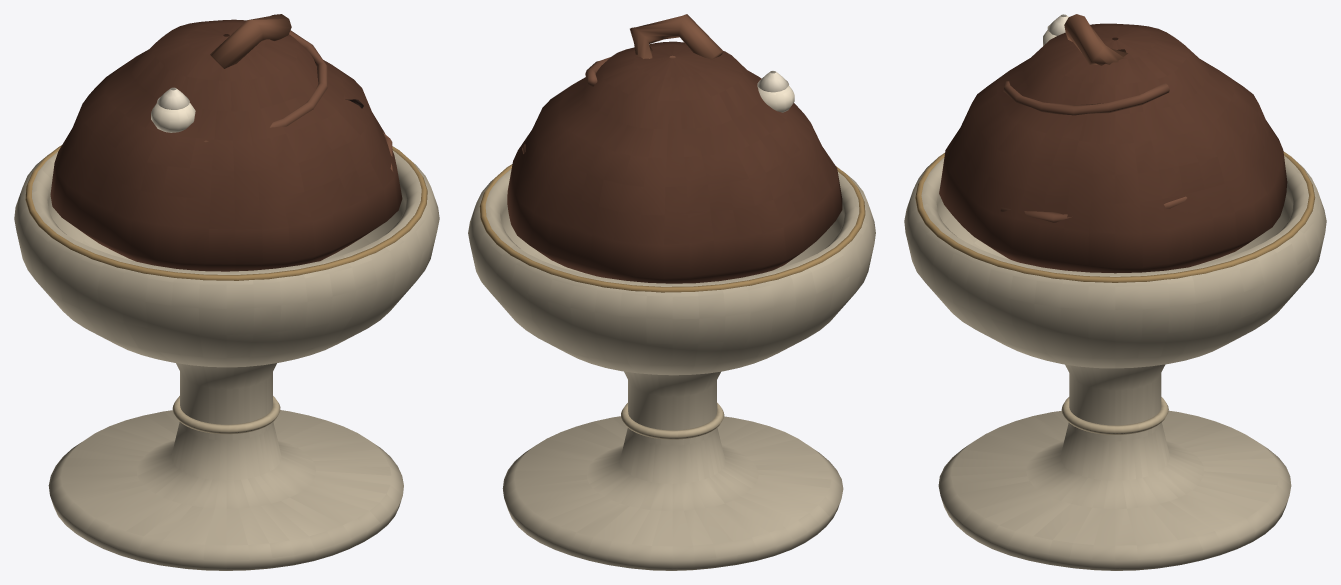
File: chocolate-mousse.glb
The picture shows the model from 3 angles, left to right: view 1: azimuth 30°, elevation 25°; view 2: azimuth 150°, elevation 25°; view 3: azimuth 270°, elevation 25°; orthographic projection. The views are drawn at different scales.
Parts seen in each view (by area): view 1: Shared_warm_ivory_ceramic_goblet, Mousse_deep_chocolate_creamy_body, Shared_thin_antique_brass_lip, Mousse_chocolate_curl, Shared_stem_warm_cream_band, Mousse_soft_spiral_fold, Mousse_tiny_cream_accent_soft_base; view 2: Shared_warm_ivory_ceramic_goblet, Mousse_deep_chocolate_creamy_body, Shared_thin_antique_brass_lip, Mousse_chocolate_curl, Shared_stem_warm_cream_band, Mousse_tiny_cream_accent_soft_base; view 3: Shared_warm_ivory_ceramic_goblet, Mousse_deep_chocolate_creamy_body, Shared_thin_antique_brass_lip, Mousse_soft_spiral_fold, Mousse_chocolate_curl, Shared_stem_warm_cream_band.
Part boxes in pixels (left/top/right/bottom): Shared_warm_ivory_ceramic_goblet: left=14, top=150, right=439, bottom=570; Mousse_deep_chocolate_creamy_body: left=50, top=19, right=402, bottom=271; Shared_thin_antique_brass_lip: left=25, top=145, right=427, bottom=280; Mousse_chocolate_curl: left=210, top=14, right=291, bottom=68; Shared_stem_warm_cream_band: left=172, top=396, right=280, bottom=434; Mousse_soft_spiral_fold: left=204, top=30, right=393, bottom=171; Mousse_tiny_cream_accent_soft_base: left=151, top=102, right=195, bottom=132; Shared_warm_ivory_ceramic_goblet: left=468, top=169, right=875, bottom=570; Mousse_deep_chocolate_creamy_body: left=507, top=41, right=842, bottom=283; Shared_thin_antique_brass_lip: left=479, top=164, right=865, bottom=292; Mousse_chocolate_curl: left=630, top=14, right=723, bottom=59; Shared_stem_warm_cream_band: left=621, top=402, right=724, bottom=439; Mousse_tiny_cream_accent_soft_base: left=757, top=85, right=794, bottom=112; Shared_warm_ivory_ceramic_goblet: left=904, top=155, right=1326, bottom=570; Mousse_deep_chocolate_creamy_body: left=939, top=23, right=1287, bottom=273; Shared_thin_antique_brass_lip: left=915, top=151, right=1315, bottom=282; Mousse_soft_spiral_fold: left=1000, top=81, right=1186, bottom=222; Mousse_chocolate_curl: left=1064, top=14, right=1127, bottom=65; Shared_stem_warm_cream_band: left=1061, top=397, right=1168, bottom=434.
Size of the model in its own units: 0.788 by 1.02 by 0.788.
